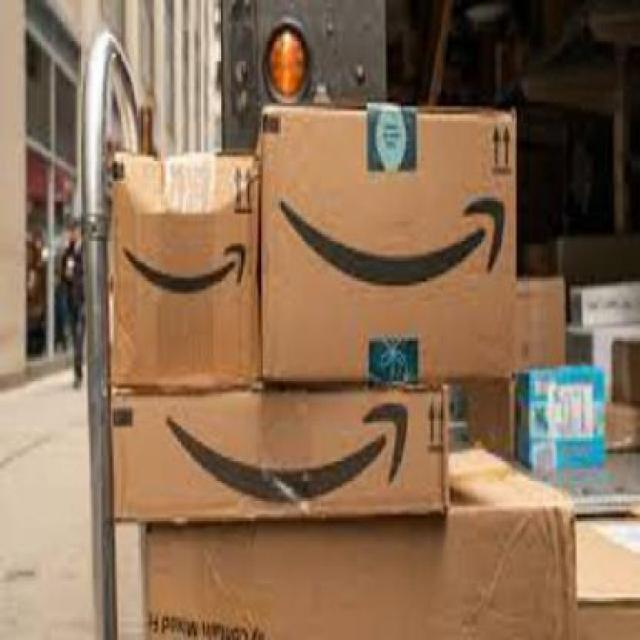box: (139, 447, 578, 640), (258, 96, 516, 388), (114, 385, 452, 525), (113, 152, 257, 390), (516, 360, 608, 470), (569, 278, 640, 328)
